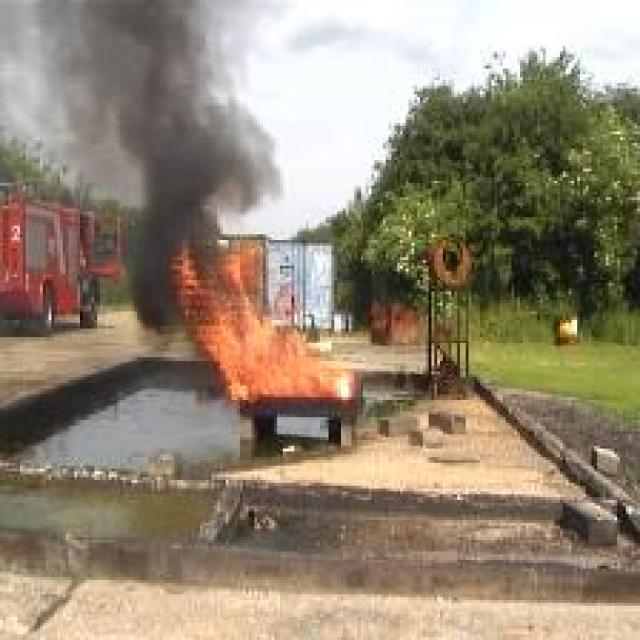Fire: (168, 237, 358, 403)
